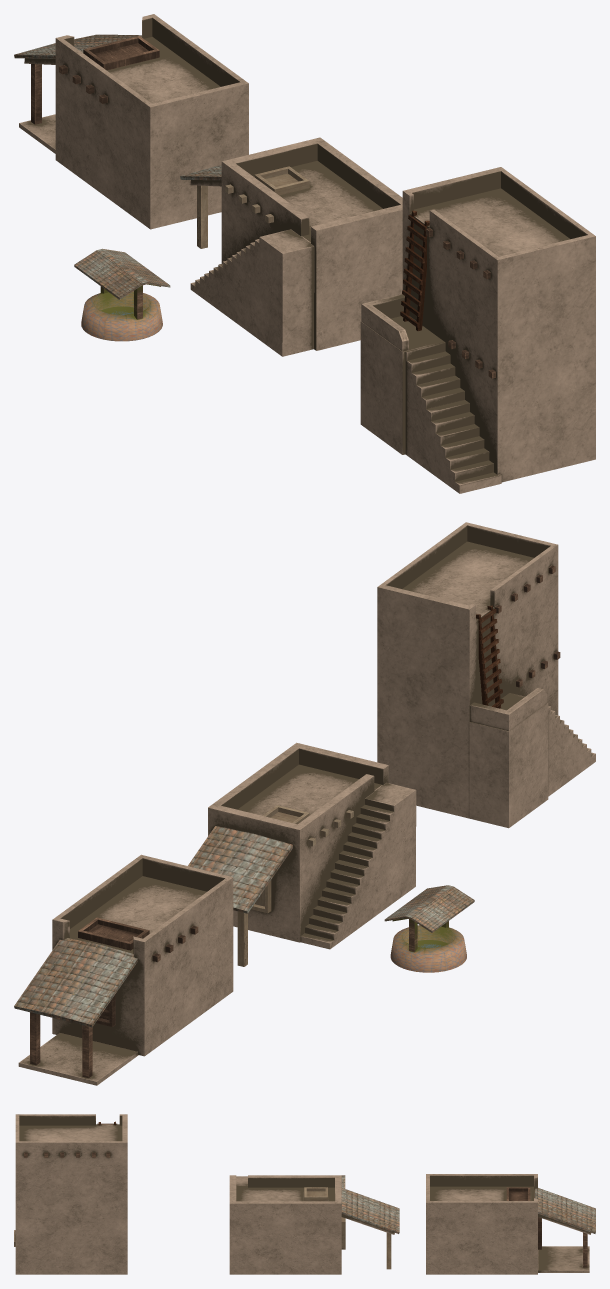
3 renders of one model, top to bottom at view 1: azimuth 30°, elevation 25°; view 2: azimuth 150°, elevation 25°; view 3: azimuth 270°, elevation 25°, orthographic. The views are drawn at different scales.
Visible parts, largest first — view 1: House_03, House_01, House_02, Weel, Cube; view 2: House_03, House_02, House_01, Weel, Cube; view 3: House_03, House_02, House_01.
Part boxes in pixels (box(x1,y1,x2,y2)): House_03: box(360, 167, 595, 493); House_01: box(180, 137, 402, 356); House_02: box(14, 14, 248, 229); Weel: box(74, 248, 170, 341); Cube: box(400, 210, 429, 330); House_03: box(377, 522, 595, 828); House_02: box(14, 854, 233, 1085); House_01: box(188, 742, 416, 966); Weel: box(384, 885, 474, 972); Cube: box(476, 605, 503, 708); House_03: box(14, 1114, 127, 1274); House_02: box(426, 1174, 595, 1274); House_01: box(229, 1175, 399, 1274).
Bounding box in the file's own units: 783 × 653 × 2597.
Materials: 5 (5 with a texture image).
